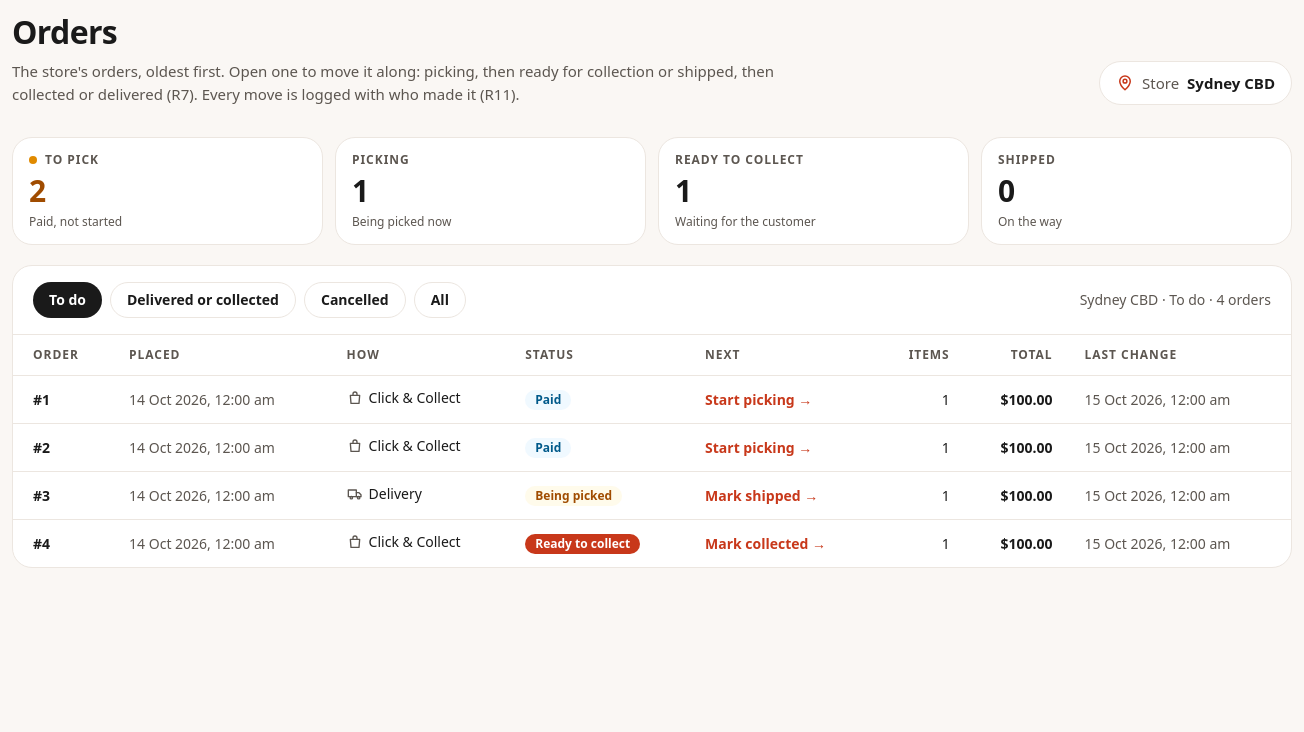
Test: the store's order queue › another_queue_is_one_more_request_and_the_counts_stay
Expected: the link "#1" is shown, [33,390,50,408]
What coordinates should you click on to do the following:
click the button "Cancelled"
I would click on:
 (355, 300)
Its box is [304,282,406,318].
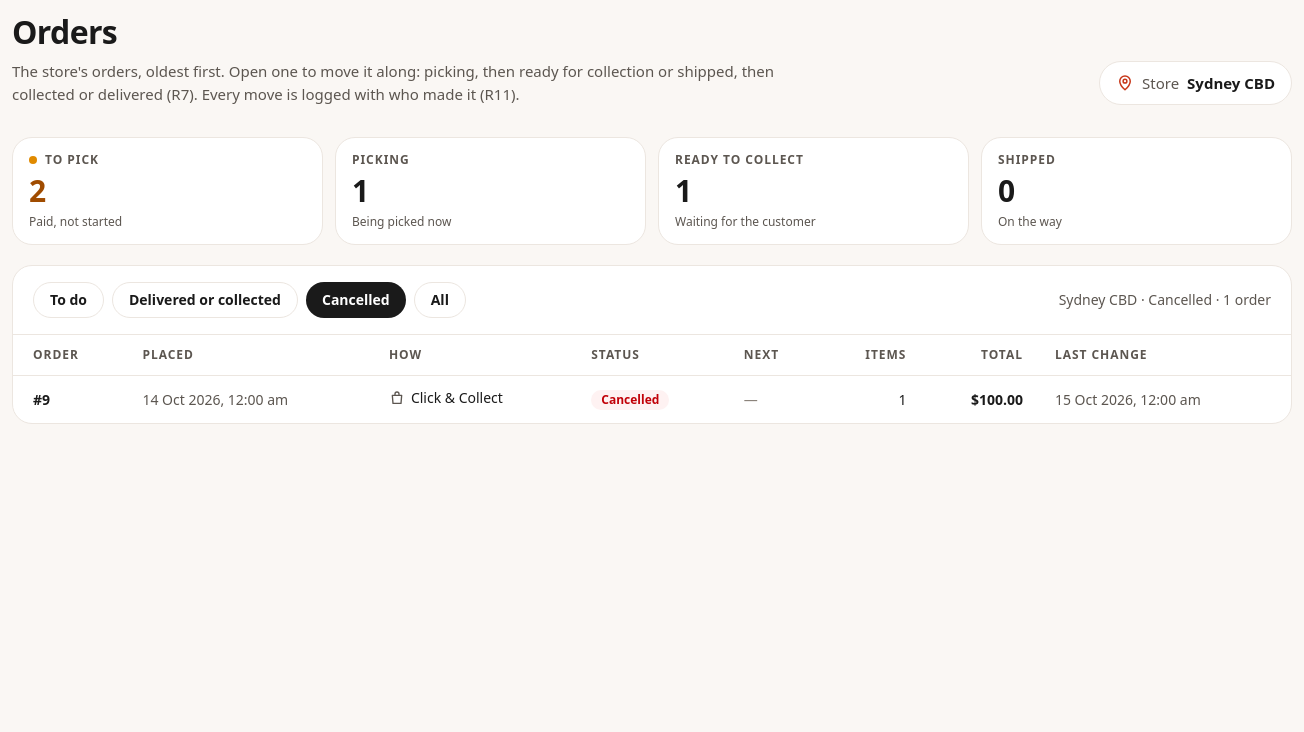
Expected: the link "#9" is shown, [33,390,50,408]
Expected: the link "#1" is gone
